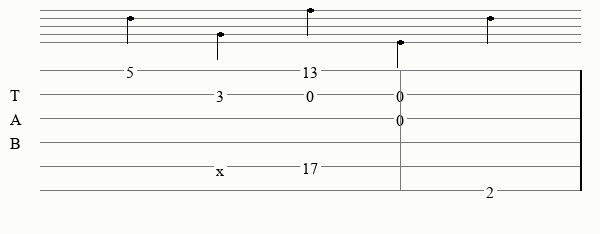0: (306, 87, 318, 102), (396, 111, 408, 126), (396, 87, 408, 102)
13: (302, 63, 322, 78)
17: (302, 159, 322, 174)
2: (486, 183, 498, 198)
3: (216, 87, 228, 102)
5: (126, 63, 138, 78)
x: (216, 161, 228, 172)
